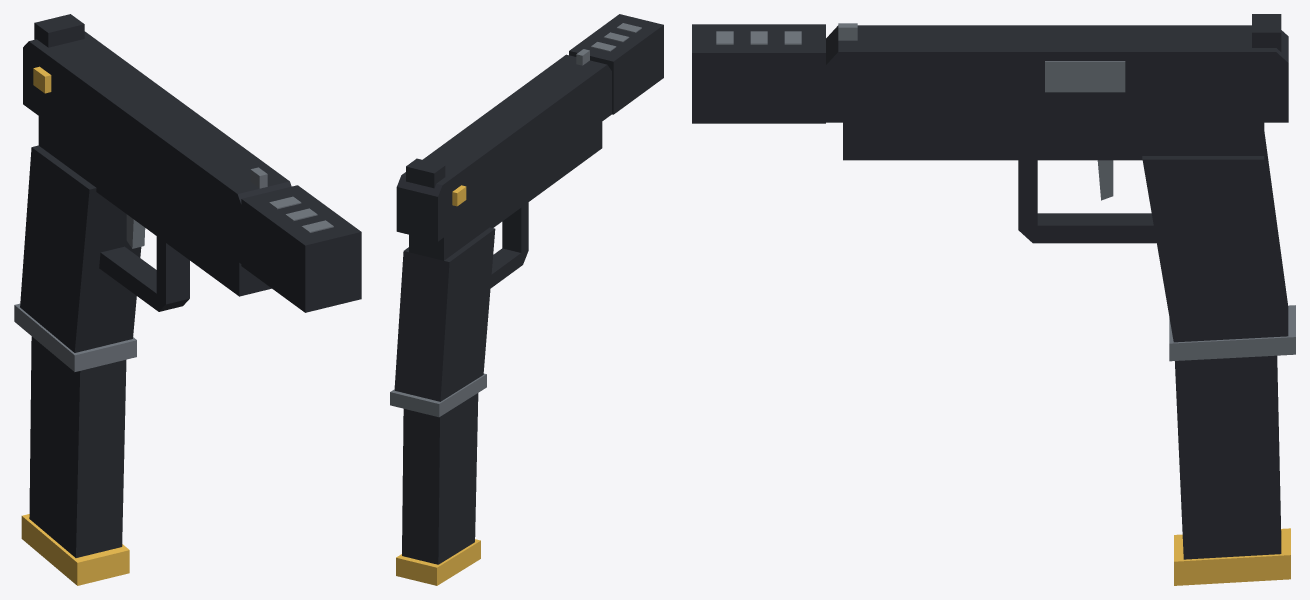
File: machine_pistol.glb
3 renders of one model, left to right at view 1: azimuth 30°, elevation 25°; view 2: azimuth 150°, elevation 25°; view 3: azimuth 270°, elevation 25°, orthographic. The views are drawn at different scales.
Visible parts, largest first — view 1: machine_pistol_mesh; view 2: machine_pistol_mesh; view 3: machine_pistol_mesh.
Boxes of the visible parts, x1,y1,x2,y2 form: machine_pistol_mesh: (14, 14, 361, 585); machine_pistol_mesh: (390, 14, 663, 585); machine_pistol_mesh: (692, 14, 1295, 585).
Bounding box in the file's own units: 0.032 × 0.249 × 0.248.
Materials: 1 (1 with a texture image).
